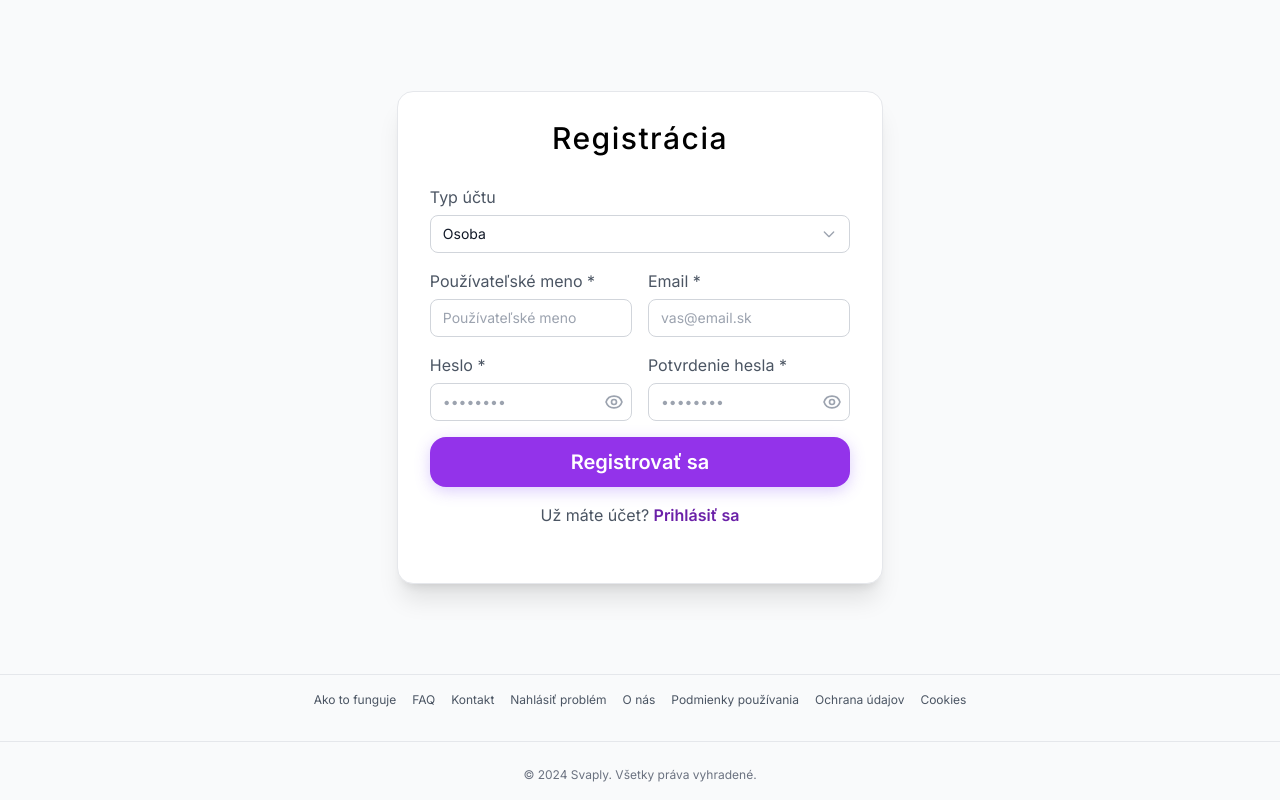
Test: RegisterForm › validates company name when company type is selected
Click the button with aria-label "Vyberte typ účtu".
click(464, 233)  # box [430,214,850,252]
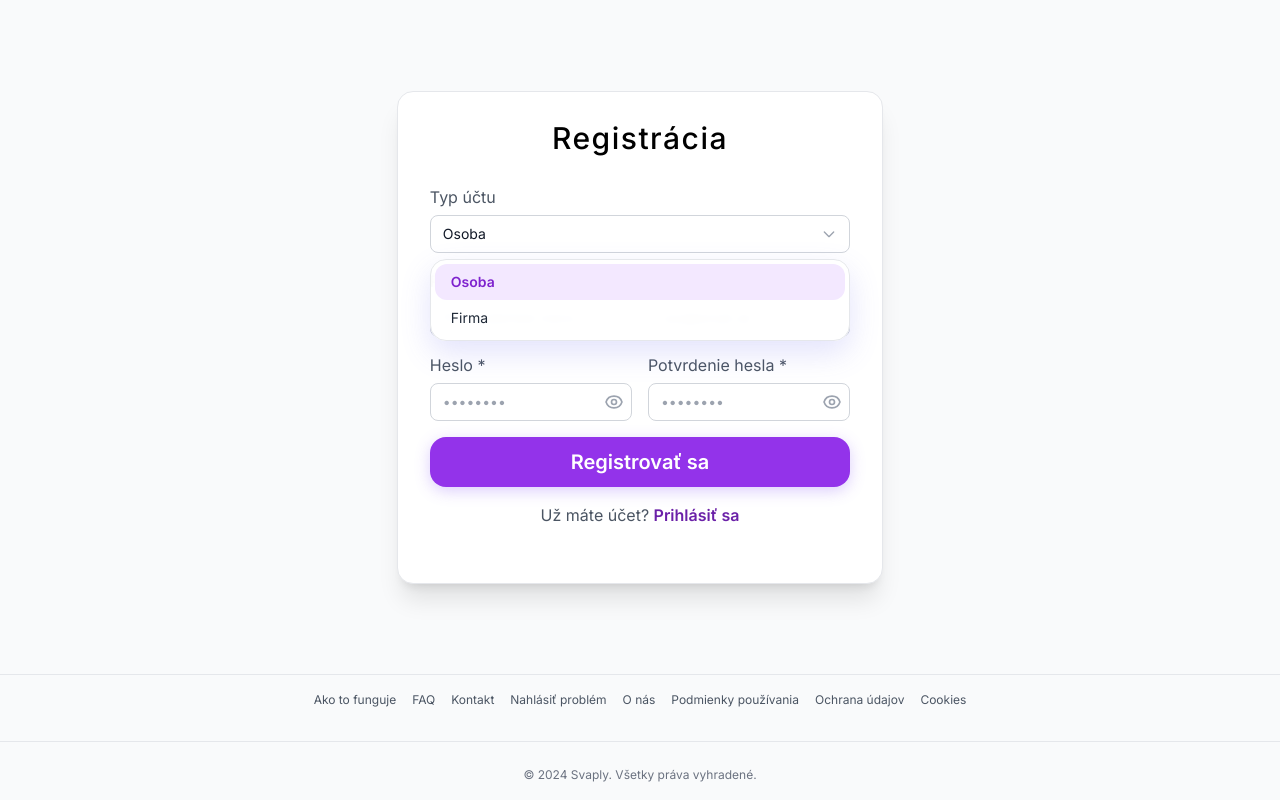
Now the list is shown, box [430,258,850,340]
Click the option "Firma".
click(469, 317)  # box [435,300,845,336]
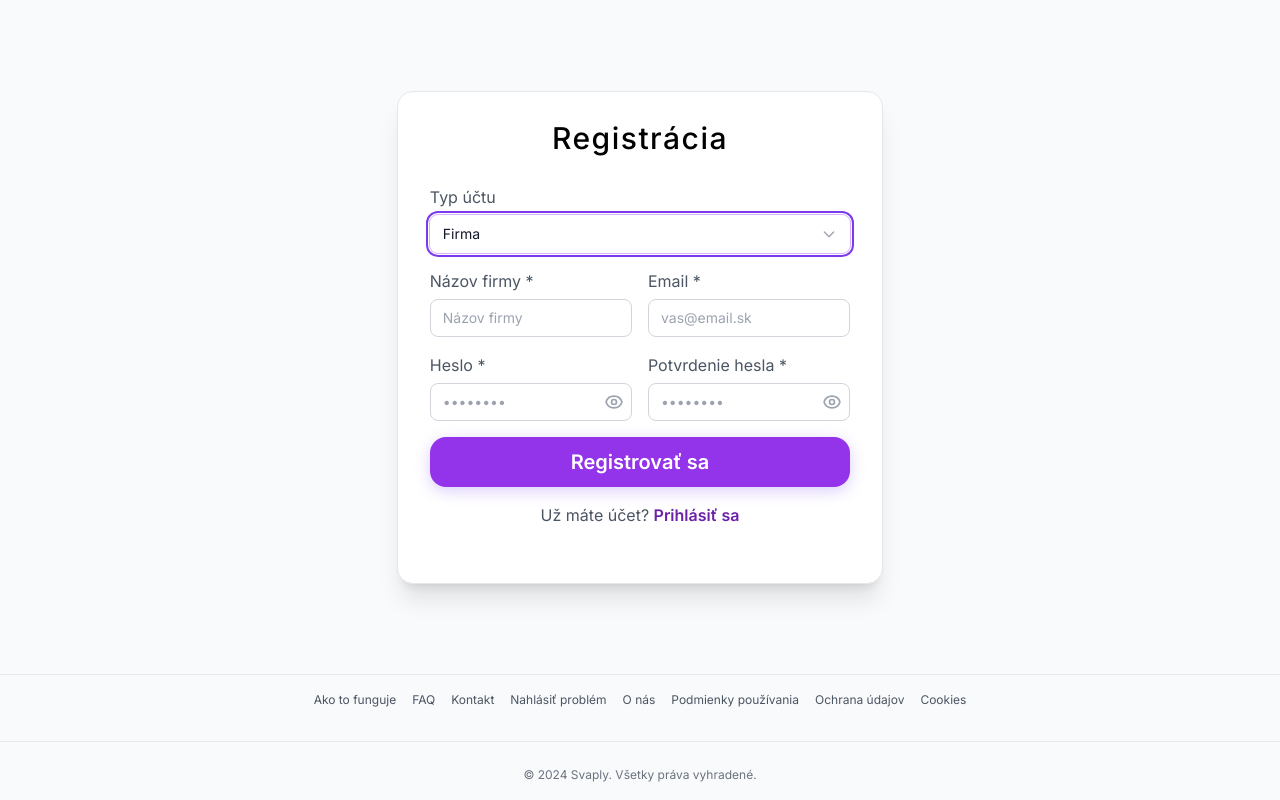
Now the field labelled "Názov firmy *" is shown, box [430,298,632,336]
Click the button "Registrovať sa".
click(640, 462)  # box [430,436,850,486]
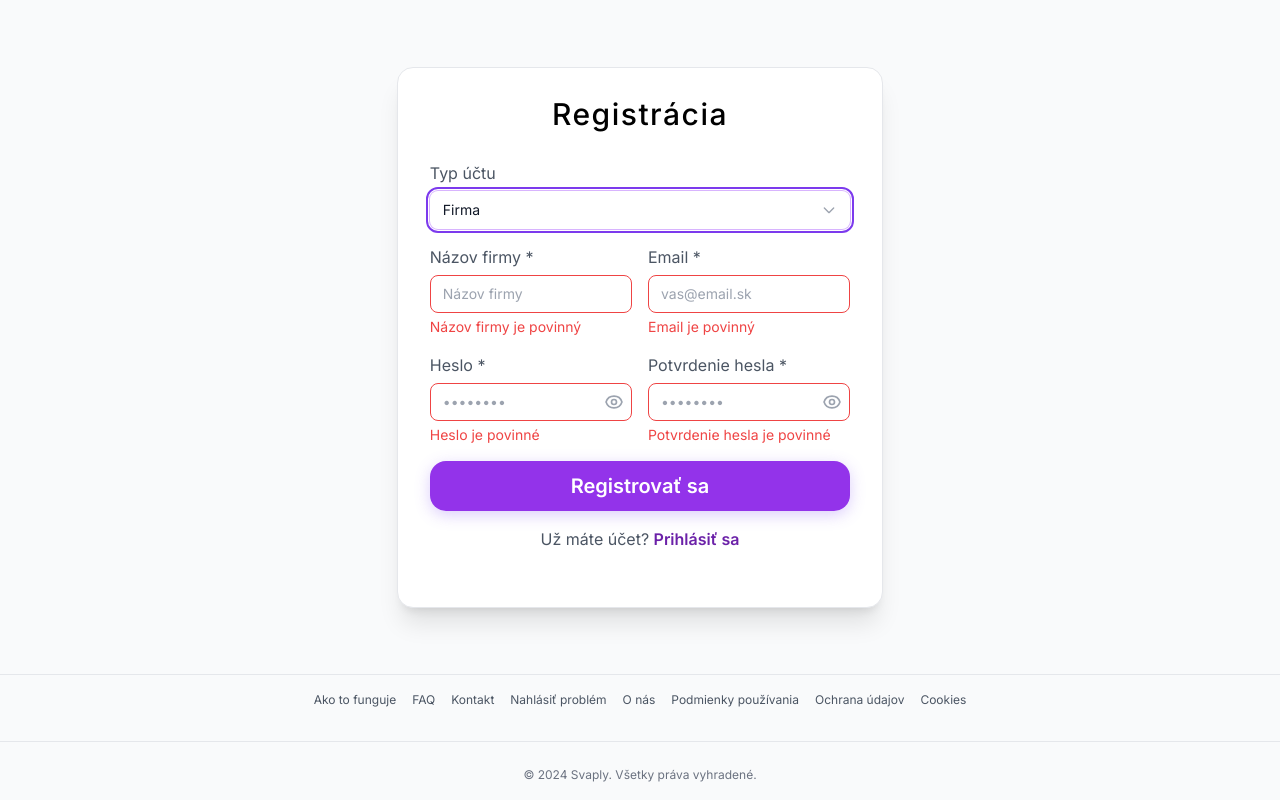
Now the text "Názov firmy je povinný" is shown, box [430,318,581,334]
